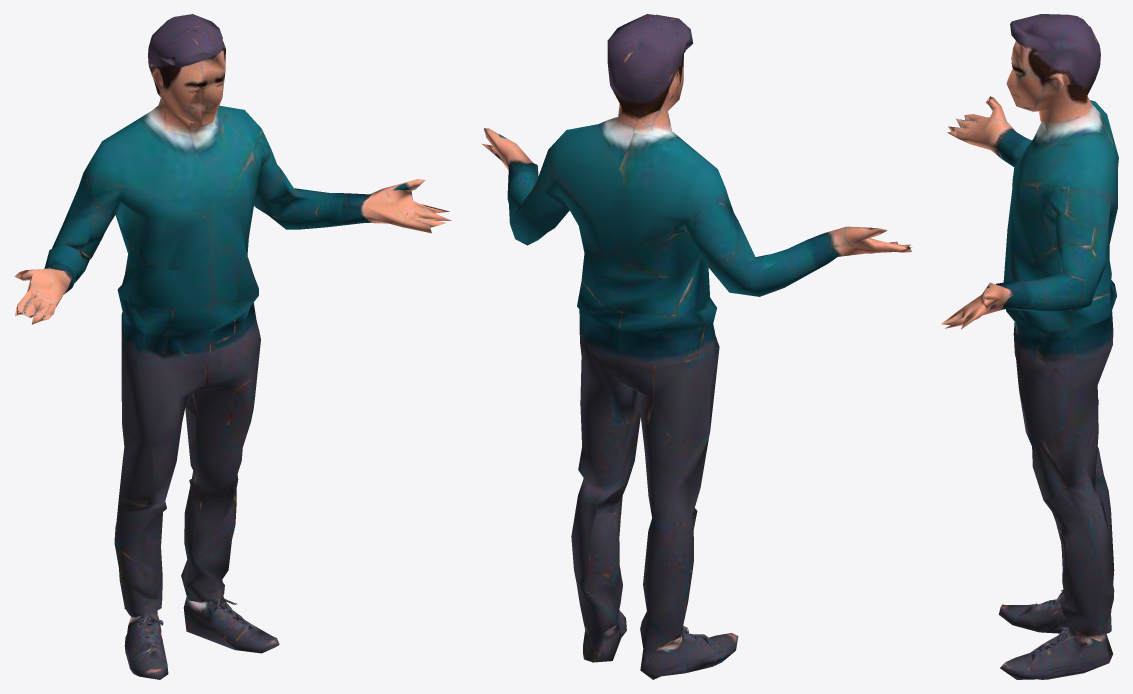
File: pax-sleeper2.glb
The picture shows the model from 3 angles, left to right: view 1: azimuth 30°, elevation 25°; view 2: azimuth 150°, elevation 25°; view 3: azimuth 270°, elevation 25°; orthographic projection.
Bounding box in the file's own units: 1.36 × 1.9 × 0.483.
Materials: 1 (1 with a texture image).
